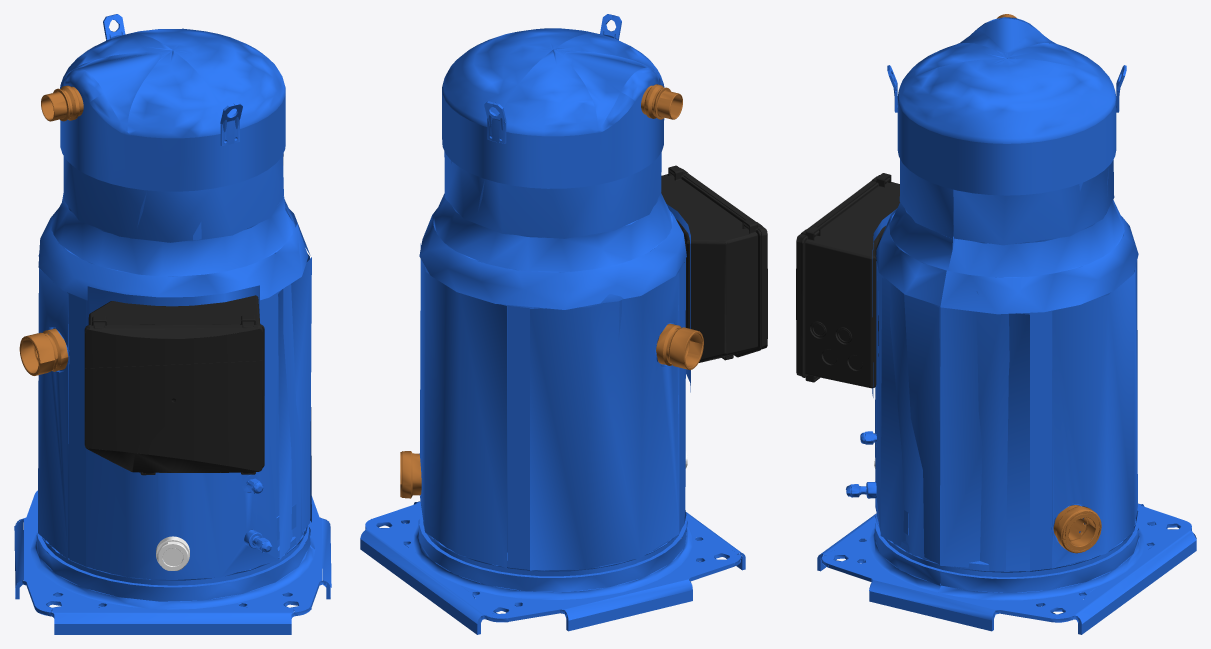
File: DSF3.gltf
The picture shows the model from 3 angles, left to right: view 1: azimuth 30°, elevation 25°; view 2: azimuth 150°, elevation 25°; view 3: azimuth 270°, elevation 25°; orthographic projection. The views are drawn at different scales.
Parts seen in each view (by area): view 1: B8FEEB655D56C7CE9C2E5286DDCCB54720402D61|:|B8A4396250C5_0688, 81336CCCA78F8092B62A2A1C91BAD0571A54EDB1|:|B8A4396250C5_d237, 3FAA1FA1BBC19AB207BE24B0829791F56C81B307|:|B8A4396250C5_b8d8, 03D032861B1C1BB0BA8BDEC1BF4A29F4F535900B|:|B8A4396250C5_814f, D8AECDDBEE91C30F1A07549A4A8CE5A5AE456F6E|:|B8A4396250C5_2a2d, D8AECDDBEE91C30F1A07549A4A8CE5A5AE456F6E|:|C906BBC76057_4ba7, 262182A5A44D02088DA8AE1A5D1D7269D3E415A8|:|B8A4396250C5_5f2c, 81ED3CAF2913237CD2734BBB8BAFC0B56AA52372|:|B8A4396250C5_87a2, B545752E80B7E176E1213A9284AEE5311E60921A|:|B8A4396250C5_7cf9, 4BB32DEB78FCC2C2398F20EE3EFB9A8C247A414F|:|B8A4396250C5_cad5, 406784E54B5662EA8F4CB6ACDD5DBC125604BFB8|:|B8A4396250C5_35f; view 2: B8FEEB655D56C7CE9C2E5286DDCCB54720402D61|:|B8A4396250C5_0688, 81336CCCA78F8092B62A2A1C91BAD0571A54EDB1|:|B8A4396250C5_d237, 03D032861B1C1BB0BA8BDEC1BF4A29F4F535900B|:|B8A4396250C5_814f, D8AECDDBEE91C30F1A07549A4A8CE5A5AE456F6E|:|B8A4396250C5_2a2d, 262182A5A44D02088DA8AE1A5D1D7269D3E415A8|:|B8A4396250C5_5f2c, 81ED3CAF2913237CD2734BBB8BAFC0B56AA52372|:|B8A4396250C5_87a2, 3FAA1FA1BBC19AB207BE24B0829791F56C81B307|:|B8A4396250C5_b8d8, B545752E80B7E176E1213A9284AEE5311E60921A|:|B8A4396250C5_7cf9, 4854A7F1DD3C9D1F82F4A8B300B03A406F6E0168|:|B8A4396250C5_ed2b, 406784E54B5662EA8F4CB6ACDD5DBC125604BFB8|:|B8A4396250C5_35fd; view 3: B8FEEB655D56C7CE9C2E5286DDCCB54720402D61|:|B8A4396250C5_0688, 81336CCCA78F8092B62A2A1C91BAD0571A54EDB1|:|B8A4396250C5_d237, 03D032861B1C1BB0BA8BDEC1BF4A29F4F535900B|:|B8A4396250C5_814f, D8AECDDBEE91C30F1A07549A4A8CE5A5AE456F6E|:|B8A4396250C5_2a2d, 81ED3CAF2913237CD2734BBB8BAFC0B56AA52372|:|B8A4396250C5_87a2, 4854A7F1DD3C9D1F82F4A8B300B03A406F6E0168|:|B8A4396250C5_ed2b, 3FAA1FA1BBC19AB207BE24B0829791F56C81B307|:|B8A4396250C5_b8d8.
Part boxes in pixels (bbox=[...]): B8FEEB655D56C7CE9C2E5286DDCCB54720402D61|:|B8A4396250C5_0688: bbox=[37, 153, 311, 580]; 81336CCCA78F8092B62A2A1C91BAD0571A54EDB1|:|B8A4396250C5_d237: bbox=[60, 28, 285, 191]; 3FAA1FA1BBC19AB207BE24B0829791F56C81B307|:|B8A4396250C5_b8d8: bbox=[84, 321, 262, 473]; 03D032861B1C1BB0BA8BDEC1BF4A29F4F535900B|:|B8A4396250C5_814f: bbox=[14, 490, 331, 634]; D8AECDDBEE91C30F1A07549A4A8CE5A5AE456F6E|:|B8A4396250C5_2a2d: bbox=[85, 295, 264, 475]; D8AECDDBEE91C30F1A07549A4A8CE5A5AE456F6E|:|C906BBC76057_4ba7: bbox=[87, 285, 259, 325]; 262182A5A44D02088DA8AE1A5D1D7269D3E415A8|:|B8A4396250C5_5f2c: bbox=[19, 328, 68, 375]; 81ED3CAF2913237CD2734BBB8BAFC0B56AA52372|:|B8A4396250C5_87a2: bbox=[42, 531, 303, 587]; B545752E80B7E176E1213A9284AEE5311E60921A|:|B8A4396250C5_7cf9: bbox=[41, 85, 80, 121]; 4BB32DEB78FCC2C2398F20EE3EFB9A8C247A414F|:|B8A4396250C5_cad5: bbox=[157, 541, 188, 570]; 406784E54B5662EA8F4CB6ACDD5DBC125604BFB8|:|B8A4396250C5_35f: bbox=[220, 102, 242, 145]; B8FEEB655D56C7CE9C2E5286DDCCB54720402D61|:|B8A4396250C5_0688: bbox=[419, 151, 686, 571]; 81336CCCA78F8092B62A2A1C91BAD0571A54EDB1|:|B8A4396250C5_d237: bbox=[442, 28, 664, 188]; 03D032861B1C1BB0BA8BDEC1BF4A29F4F535900B|:|B8A4396250C5_814f: bbox=[360, 501, 745, 634]; D8AECDDBEE91C30F1A07549A4A8CE5A5AE456F6E|:|B8A4396250C5_2a2d: bbox=[661, 165, 761, 362]; 262182A5A44D02088DA8AE1A5D1D7269D3E415A8|:|B8A4396250C5_5f2c: bbox=[656, 323, 703, 370]; 81ED3CAF2913237CD2734BBB8BAFC0B56AA52372|:|B8A4396250C5_87a2: bbox=[427, 529, 681, 578]; 3FAA1FA1BBC19AB207BE24B0829791F56C81B307|:|B8A4396250C5_b8d8: bbox=[669, 168, 767, 349]; B545752E80B7E176E1213A9284AEE5311E60921A|:|B8A4396250C5_7cf9: bbox=[644, 84, 682, 119]; 4854A7F1DD3C9D1F82F4A8B300B03A406F6E0168|:|B8A4396250C5_ed2b: bbox=[400, 451, 421, 498]; 406784E54B5662EA8F4CB6ACDD5DBC125604BFB8|:|B8A4396250C5_35fd: bbox=[484, 101, 506, 143]; B8FEEB655D56C7CE9C2E5286DDCCB54720402D61|:|B8A4396250C5_0688: bbox=[875, 159, 1138, 572]; 81336CCCA78F8092B62A2A1C91BAD0571A54EDB1|:|B8A4396250C5_d237: bbox=[897, 17, 1116, 195]; 03D032861B1C1BB0BA8BDEC1BF4A29F4F535900B|:|B8A4396250C5_814f: bbox=[817, 503, 1196, 634]; D8AECDDBEE91C30F1A07549A4A8CE5A5AE456F6E|:|B8A4396250C5_2a2d: bbox=[801, 173, 899, 388]; 81ED3CAF2913237CD2734BBB8BAFC0B56AA52372|:|B8A4396250C5_87a2: bbox=[884, 533, 1132, 578]; 4854A7F1DD3C9D1F82F4A8B300B03A406F6E0168|:|B8A4396250C5_ed2b: bbox=[1053, 505, 1101, 553]; 3FAA1FA1BBC19AB207BE24B0829791F56C81B307|:|B8A4396250C5_b8d8: bbox=[796, 175, 890, 379].
Size of the model in its own units: 1.74 by 2.65 by 1.92.
